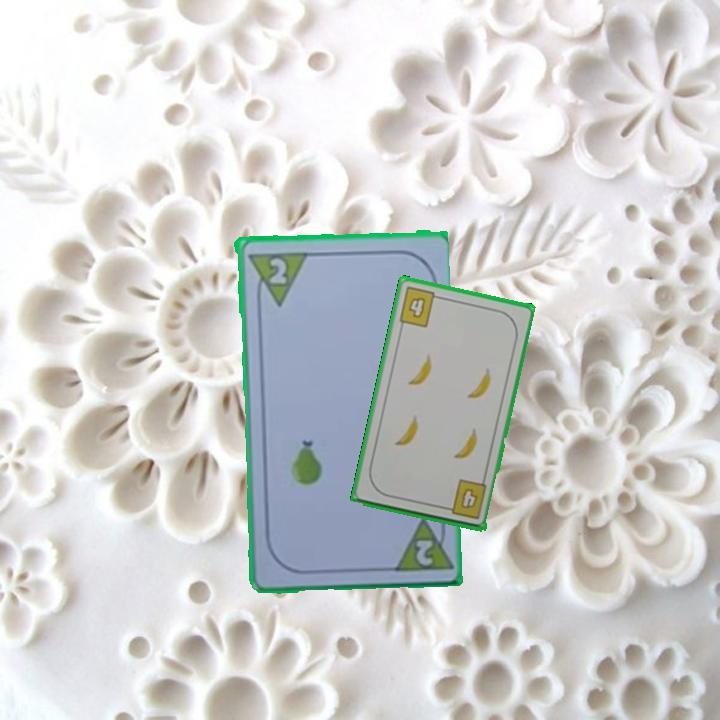2p: (388, 512, 453, 575), (265, 254, 290, 287)
4b: (395, 283, 445, 330), (440, 476, 489, 522)
